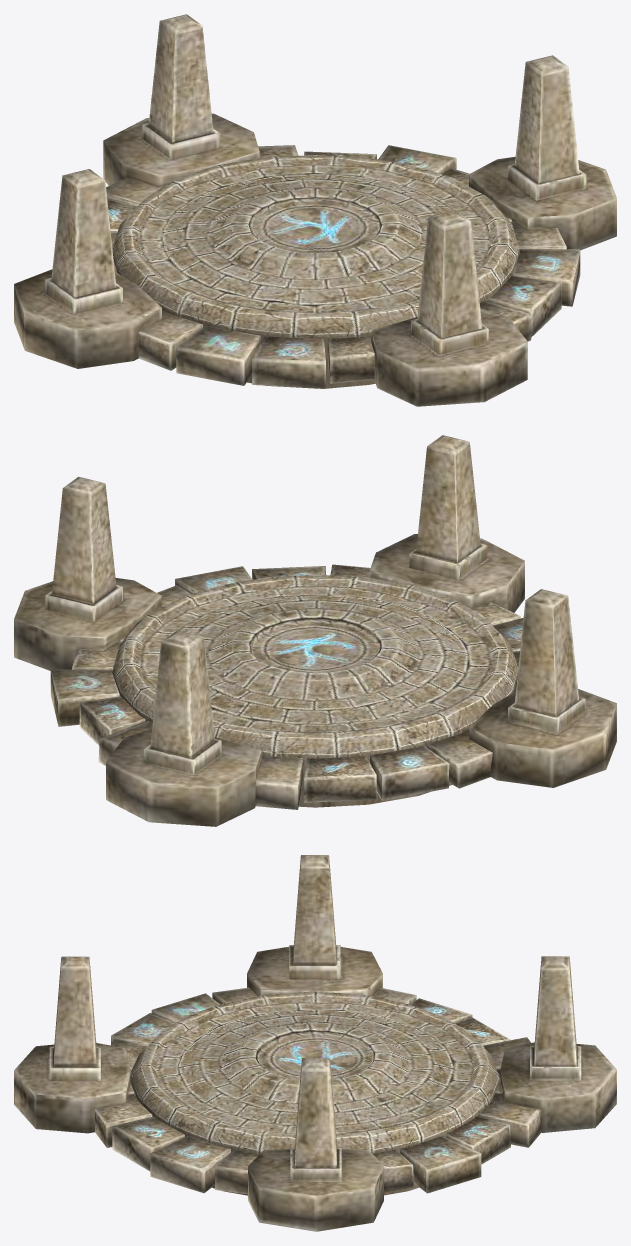
The model's file is SP2_edit_for_fbx.fbx.
3 views of the same model, one above another, from view 1: azimuth 30°, elevation 25°; view 2: azimuth 150°, elevation 25°; view 3: azimuth 270°, elevation 25° (orthographic). The views are drawn at different scales.
Visible parts, largest first — view 1: SP2; view 2: SP2; view 3: SP2.
Boxes of the visible parts, x1=… form: SP2: x1=14, y1=14, x2=616, y2=406; SP2: x1=14, y1=435, x2=616, y2=826; SP2: x1=14, y1=855, x2=616, y2=1231.
Bounding box in the file's own units: 5931 × 1813 × 5931.
